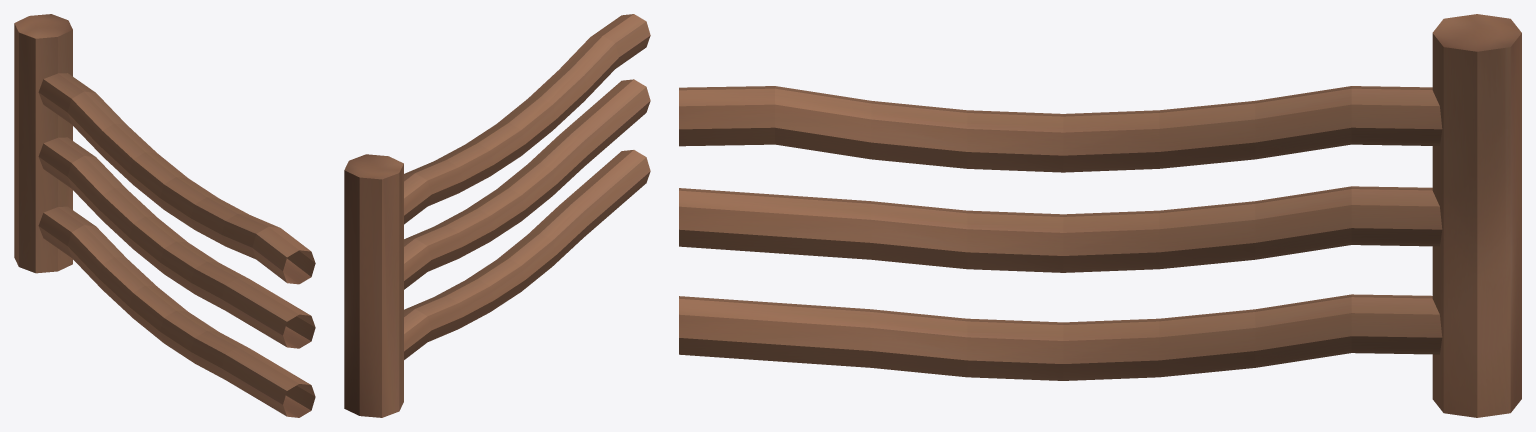
The model's file is Forest_Fence_Section.fbx.
3 renders of one model, left to right at view 1: azimuth 30°, elevation 25°; view 2: azimuth 150°, elevation 25°; view 3: azimuth 270°, elevation 25°, orthographic. The views are drawn at different scales.
Visible parts, largest first — view 1: Fence; view 2: Fence; view 3: Fence.
Part boxes in pixels (x1,y1,x2,y2): Fence: (14,14,315,417); Fence: (344,14,650,417); Fence: (679,14,1521,417).
Size of the model in its own units: 0.9597 by 9.05 by 4.34.
1 material, 1 textured.
